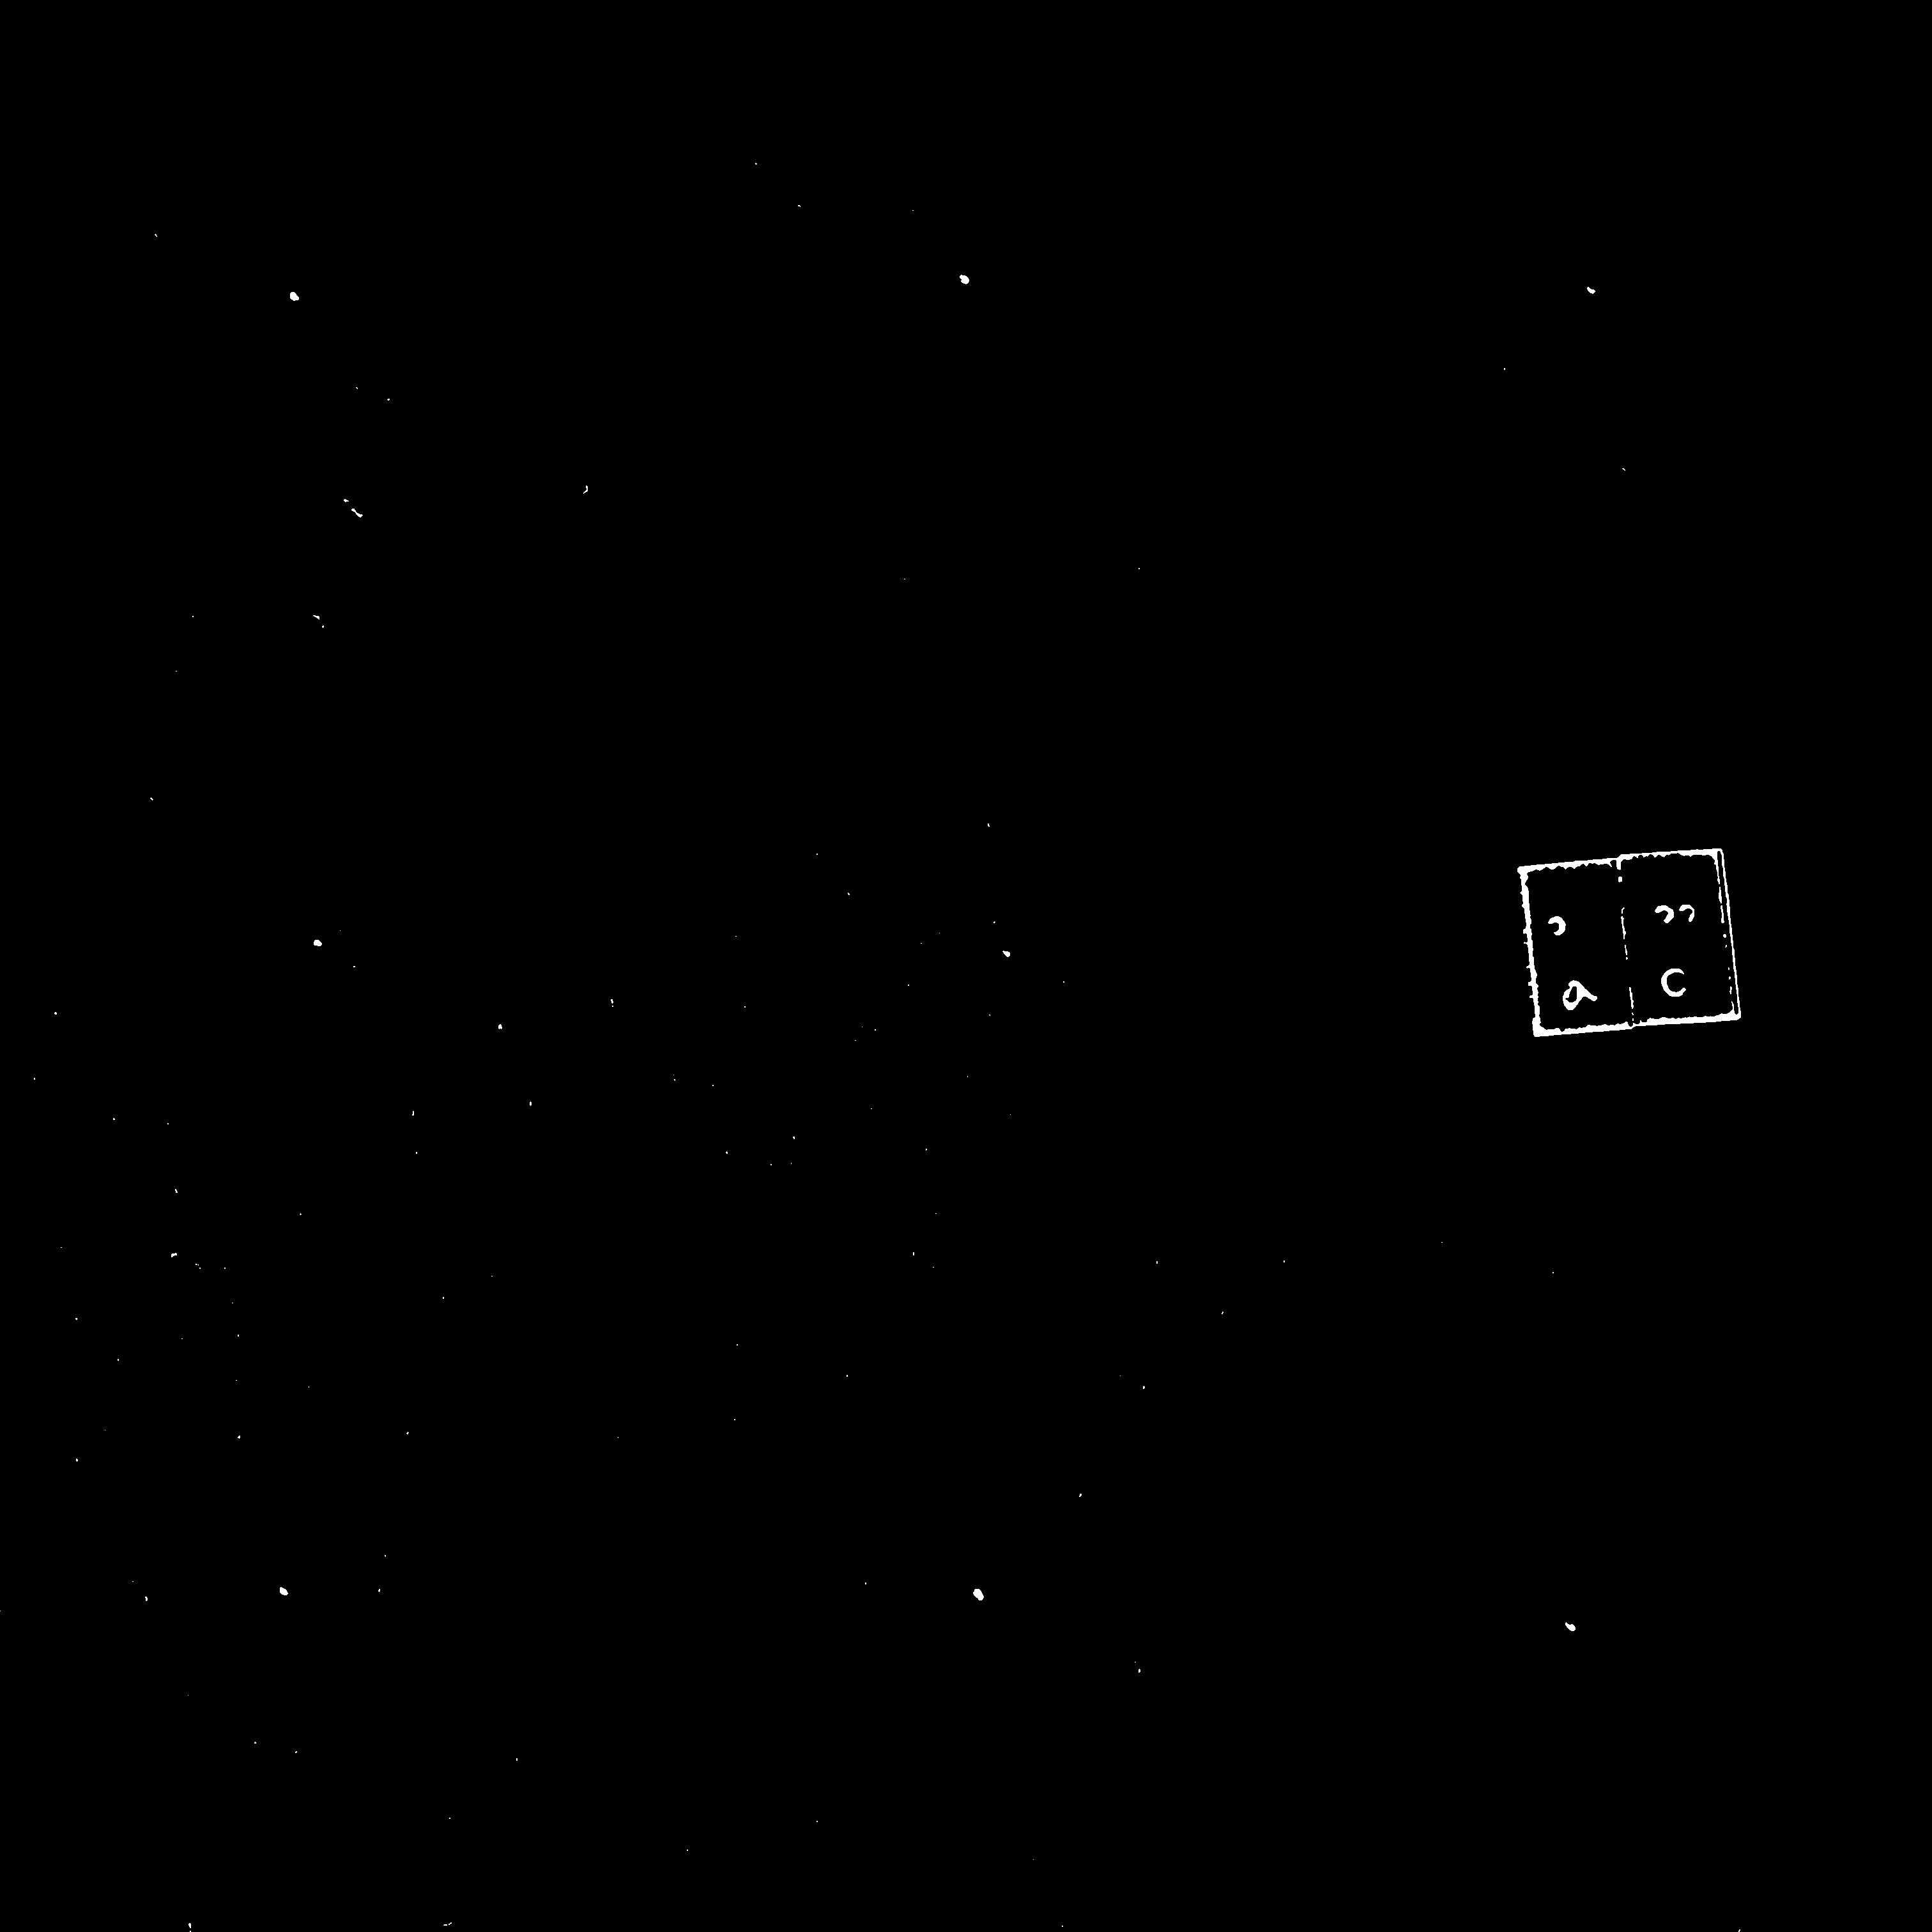a: (1538, 901, 1598, 980)
c: (1639, 894, 1706, 971)
